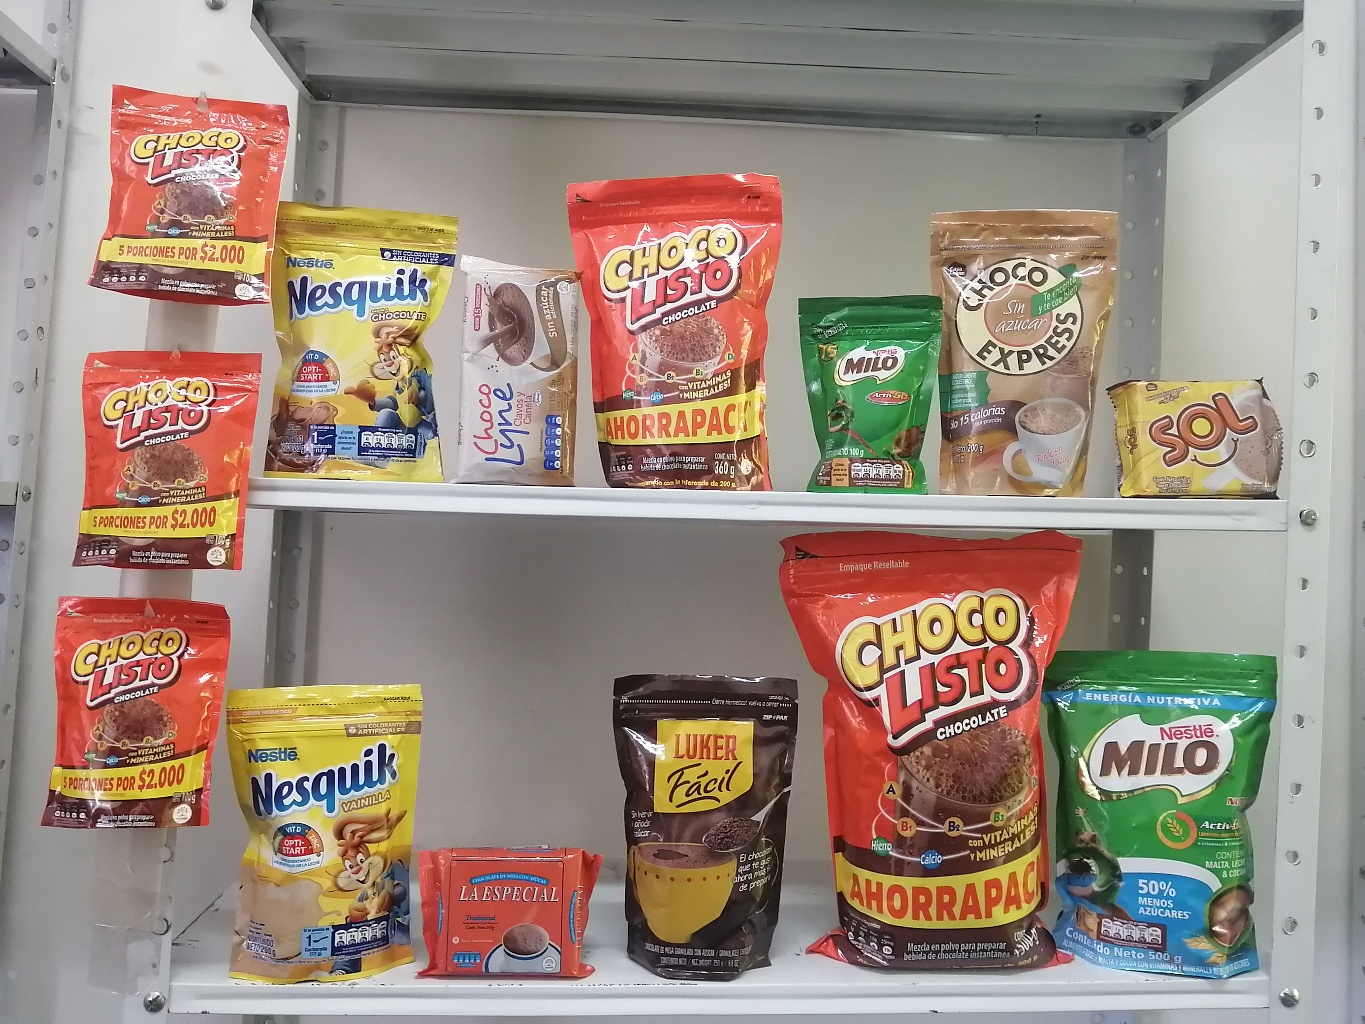COL0170103DYP1,500: (770, 520, 1097, 994)
COL0170103DYP36000: (555, 165, 790, 499)
COL0170203DYP10000: (783, 281, 954, 504)
COL0170205DYP50000: (1014, 630, 1302, 990)
COL0170303DYP20000: (255, 194, 468, 492)
COL0170306DYP20000: (203, 666, 457, 1006)
